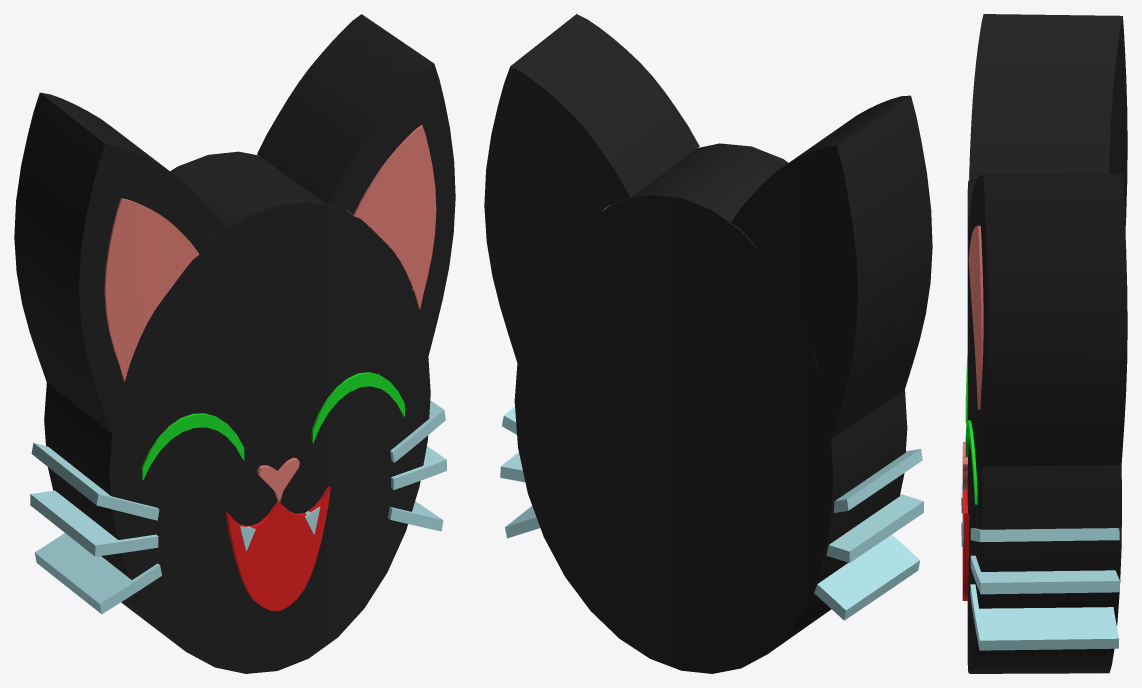
Rendered from Cat_Inner.fbx.
The picture shows the model from 3 angles, left to right: view 1: azimuth 30°, elevation 25°; view 2: azimuth 150°, elevation 25°; view 3: azimuth 270°, elevation 25°; orthographic projection.
Visible parts, largest first — view 1: Cat_Inner; view 2: Cat_Inner; view 3: Cat_Inner.
Part boxes in pixels (x1=…): Cat_Inner: x1=14, y1=14, x2=455, y2=673; Cat_Inner: x1=484, y1=14, x2=932, y2=673; Cat_Inner: x1=961, y1=14, x2=1127, y2=673.
Bounding box in the file's own units: 24.18 × 34.44 × 9.16.
